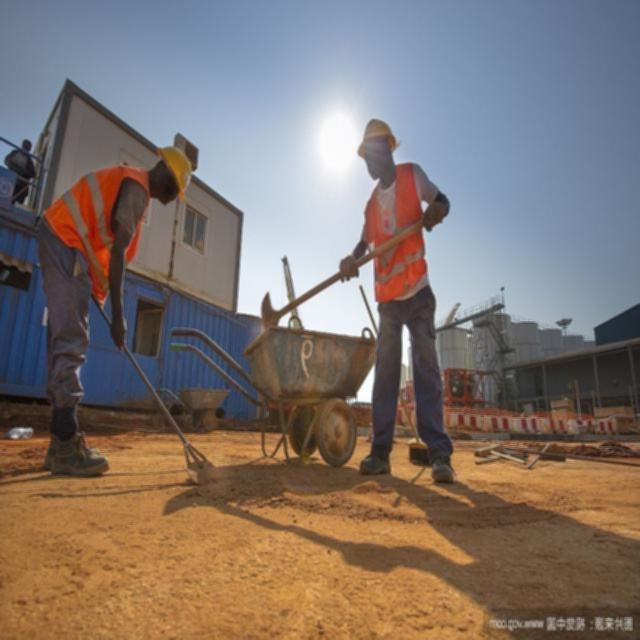Con_Casco: (357, 116, 399, 184), (156, 144, 192, 207)
Con_Chaleco: (45, 160, 151, 304), (366, 165, 428, 287)
